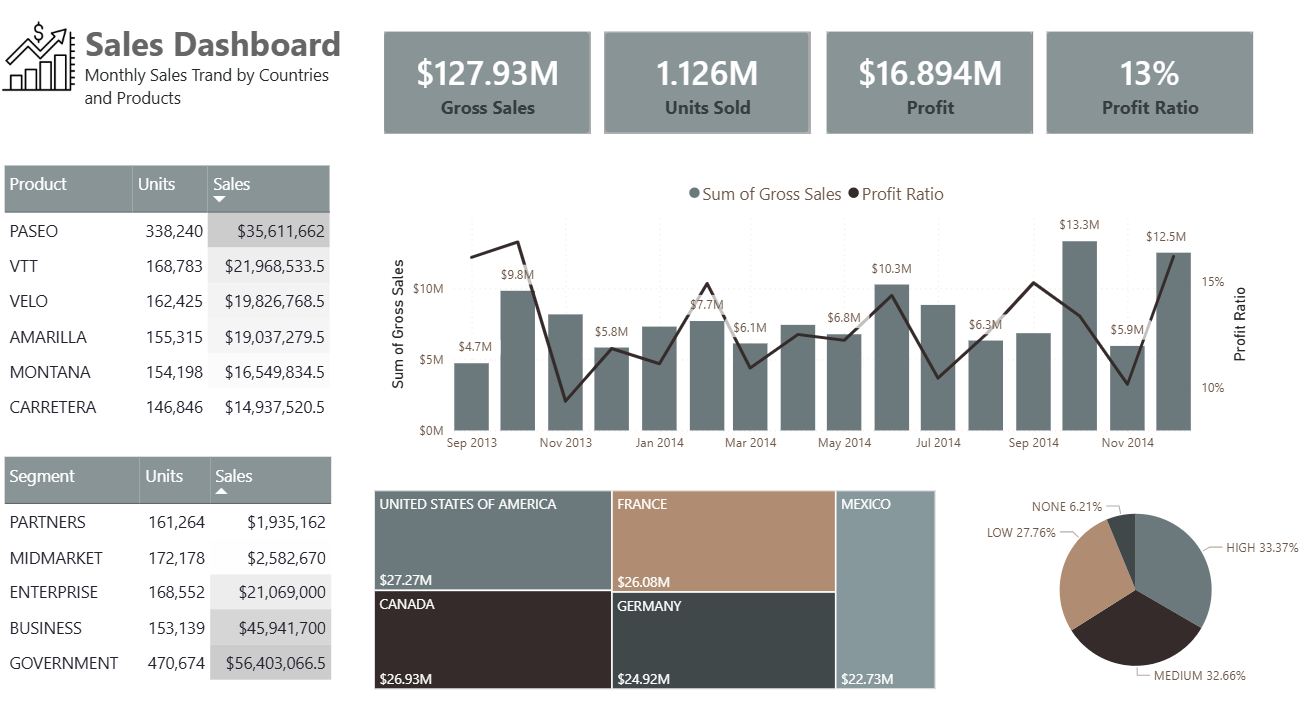

This screenshot's page, from the dashboard's own definition file:
{"tool":"powerbi","page":{"name":"Page 1","canvas":[1280,720],"ordinal":0},"visuals":[{"type":"cardVisual","fields":{"Data":["Sum(financials.Gross Sales)"]},"box":[372.8,42.2,199,98.8],"z":0,"group":"g1"},{"type":"lineStackedColumnComboChart","fields":{"Category":["Calendar.Date"],"Y":["Sum(financials.Gross Sales)"],"Y2":["_calc.Profit Ratio"]},"box":[372.8,176.1,838.5,281.1],"z":0},{"type":"group","id":"g1","title":"Group 1","box":[372.8,42.2,838.5,98.9],"z":1000},{"type":"cardVisual","fields":{"Data":["Sum(financials.Units Sold)"]},"box":[585.5,42.2,199,98.8],"z":1000,"group":"g1"},{"type":"cardVisual","fields":{"Data":["Sum(financials.Profit)"]},"box":[799.6,42.2,199,98.8],"z":2000,"group":"g1"},{"type":"tableEx","fields":{"Values":["financials.Product","Sum(financials.Units Sold)","Sum(financials.Gross Sales)"]},"box":[0,166.5,337.8,261.8],"z":2000},{"type":"cardVisual","fields":{"Data":["_calc.Profit Ratio"]},"box":[1012,42.2,199,98.8],"z":3000,"group":"g1"},{"type":"tableEx","fields":{"Values":["financials.Segment","Sum(financials.Units Sold)","Sum(financials.Gross Sales)"]},"box":[0,447.6,337.8,234],"z":3000},{"type":"treemap","fields":{"Group":["financials.Country"],"Values":["Sum(financials.Gross Sales)"]},"box":[358.1,480.3,551.6,201.7],"z":4000},{"type":"pieChart","fields":{"Category":["financials.Discount Band"],"Y":["Sum(financials.Gross Sales)"]},"box":[915.3,480.3,365,201.7],"z":4001},{"type":"textbox","box":[49.5,26.5,287.1,80.8],"z":4002},{"type":"image","box":[0,24.1,78.4,83.2],"z":4003},{"type":"textbox","box":[78.4,67.6,258.2,88.1],"z":4004}]}

Visuals, with their boxes in screenshot pixels (x1, y1, x2, y2), scaled from the page's 1280x720 canvas onto the 1313x726 screenshot:
cardVisual - Sum(financials.Gross Sales): bbox(382, 43, 587, 142)
lineStackedColumnComboChart - Calendar.Date x Sum(financials.Gross Sales): bbox(382, 178, 1243, 461)
"Group 1" group: bbox(382, 43, 1243, 142)
cardVisual - Sum(financials.Units Sold): bbox(601, 43, 805, 142)
cardVisual - Sum(financials.Profit): bbox(820, 43, 1024, 142)
tableEx - financials.Product x Sum(financials.Units Sold): bbox(0, 168, 347, 432)
cardVisual - _calc.Profit Ratio: bbox(1038, 43, 1242, 142)
tableEx - financials.Segment x Sum(financials.Units Sold): bbox(0, 451, 347, 687)
treemap - financials.Country x Sum(financials.Gross Sales): bbox(367, 484, 933, 688)
pieChart - financials.Discount Band x Sum(financials.Gross Sales): bbox(939, 484, 1312, 688)
textbox: bbox(51, 27, 345, 108)
image: bbox(0, 24, 80, 108)
textbox: bbox(80, 68, 345, 157)
